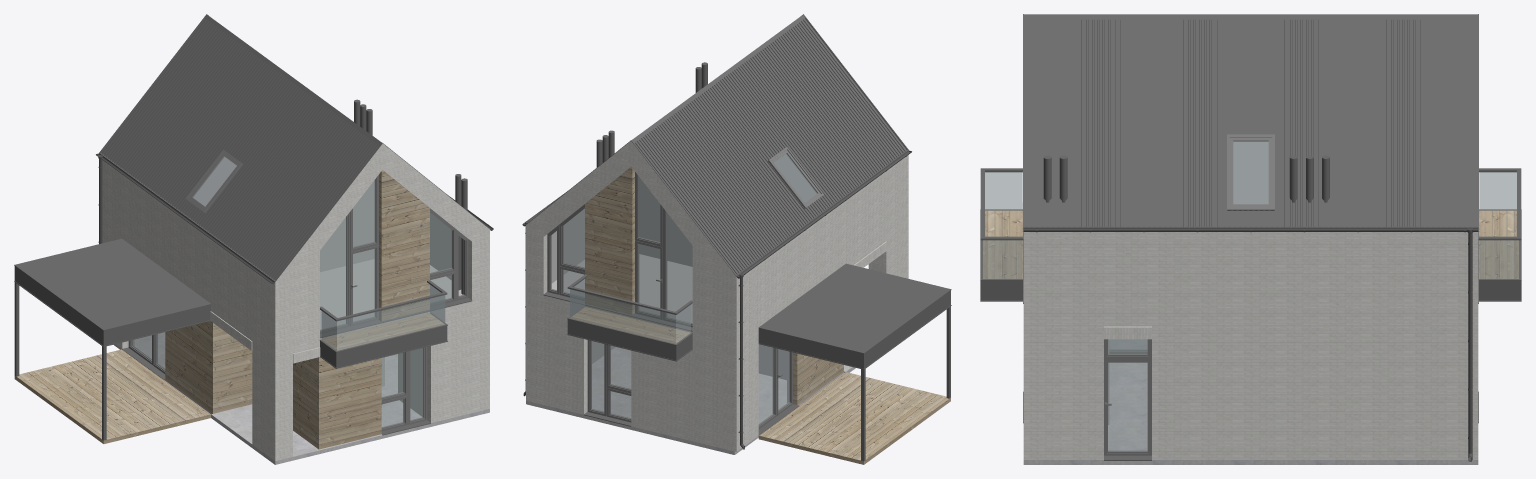
File: domik3.glb
3 views of the same model, side by side, from view 1: azimuth 30°, elevation 25°; view 2: azimuth 150°, elevation 25°; view 3: azimuth 270°, elevation 25° (orthographic). The views are drawn at different scales.
Parts seen in each view (by area): view 1: [0136_Charcoal] (×80), [Cinder Block] (×3), DOSKA (×4), [Translucent_Glass_Gray] (×9), Default 150:150:150 (×4), [Polished Concrete New], WINDOWS (×5), GRAY METAL; view 2: [0136_Charcoal] (×81), [Cinder Block] (×3), DOSKA (×4), [Translucent_Glass_Gray] (×11), Default 150:150:150 (×4), [Polished Concrete New], WINDOWS (×6), GRAY METAL (×2); view 3: [0136_Charcoal] (×92), [Cinder Block] (×3), [Translucent_Glass_Gray] (×5), [Polished Concrete New], DOSKA (×2), WINDOWS (×3), GRAY METAL (×2), Default 150:150:150 (×2).
Part boxes in pixels (<box>): [0136_Charcoal] (×80): <box>14,15,472,440</box>; [Cinder Block] (×3): <box>102,143,489,461</box>; DOSKA (×4): <box>14,170,444,449</box>; [Translucent_Glass_Gray] (×9): <box>192,156,451,427</box>; Default 150:150:150 (×4): <box>193,157,468,416</box>; [Polished Concrete New]: <box>113,332,489,464</box>; WINDOWS (×5): <box>320,175,468,424</box>; GRAY METAL: <box>96,153,274,284</box>; [0136_Charcoal] (×81): <box>543,15,951,461</box>; [Cinder Block] (×3): <box>526,141,908,451</box>; DOSKA (×4): <box>571,166,950,464</box>; [Translucent_Glass_Gray] (×11): <box>563,153,817,424</box>; Default 150:150:150 (×4): <box>545,154,816,379</box>; [Polished Concrete New]: <box>526,347,855,454</box>; WINDOWS (×6): <box>547,147,823,416</box>; GRAY METAL (×2): <box>736,150,911,449</box>; [0136_Charcoal] (×92): <box>980,14,1521,300</box>; [Cinder Block] (×3): <box>1023,232,1478,459</box>; [Translucent_Glass_Gray] (×5): <box>983,141,1518,451</box>; [Polished Concrete New]: <box>1023,339,1478,464</box>; DOSKA (×2): <box>983,210,1518,278</box>; WINDOWS (×3): <box>1104,134,1274,455</box>; GRAY METAL (×2): <box>1023,228,1478,461</box>; Default 150:150:150 (×2): <box>1233,141,1268,204</box>.
Bounding box in the file's own units: 9.15 × 7.9 × 10.12.
Materials: 336 (12 with a texture image).
